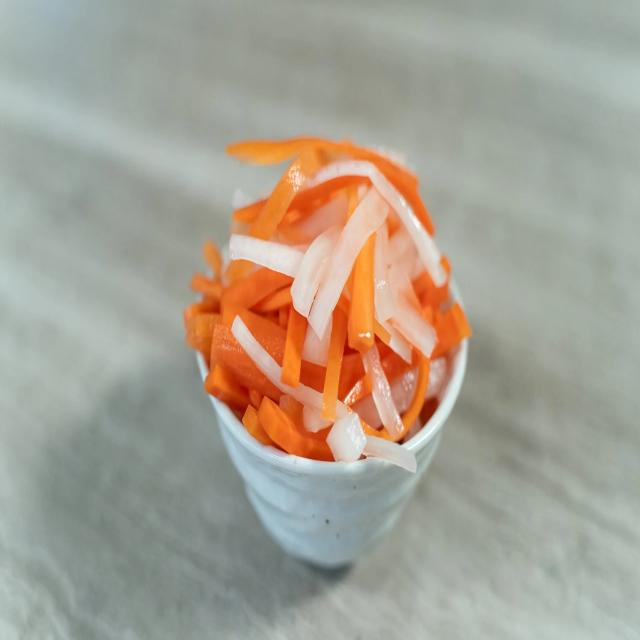do chua: (189, 138, 469, 461)
